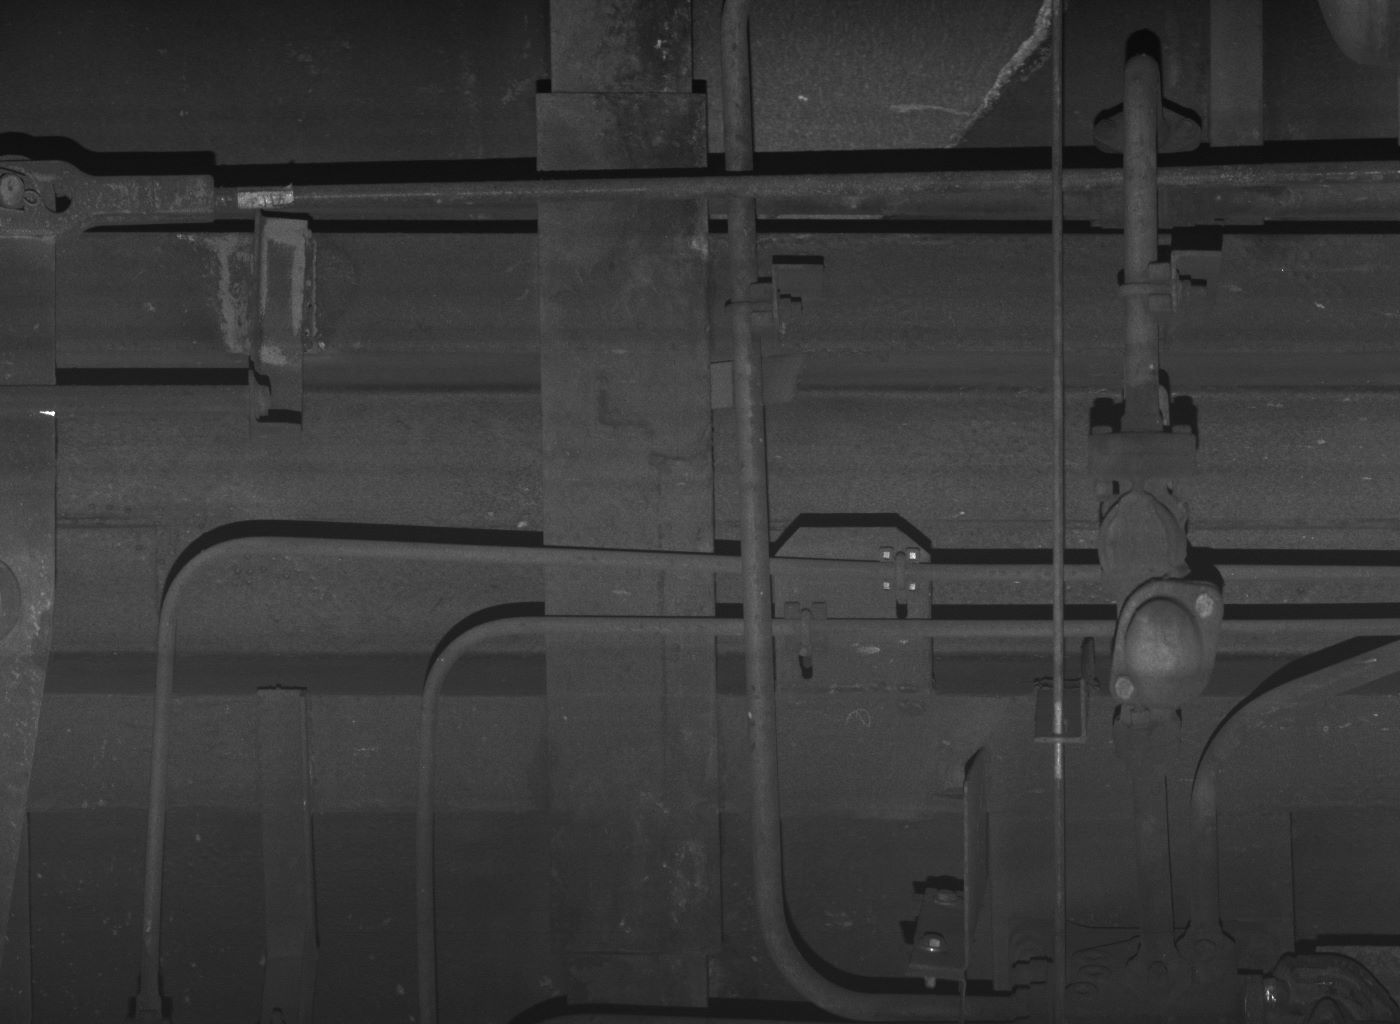normal: (1101, 487, 1190, 597)
